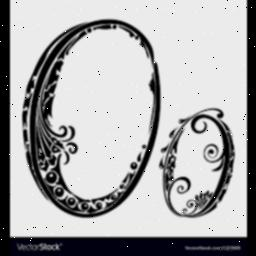o: (18, 16, 162, 220), (158, 104, 238, 220)
